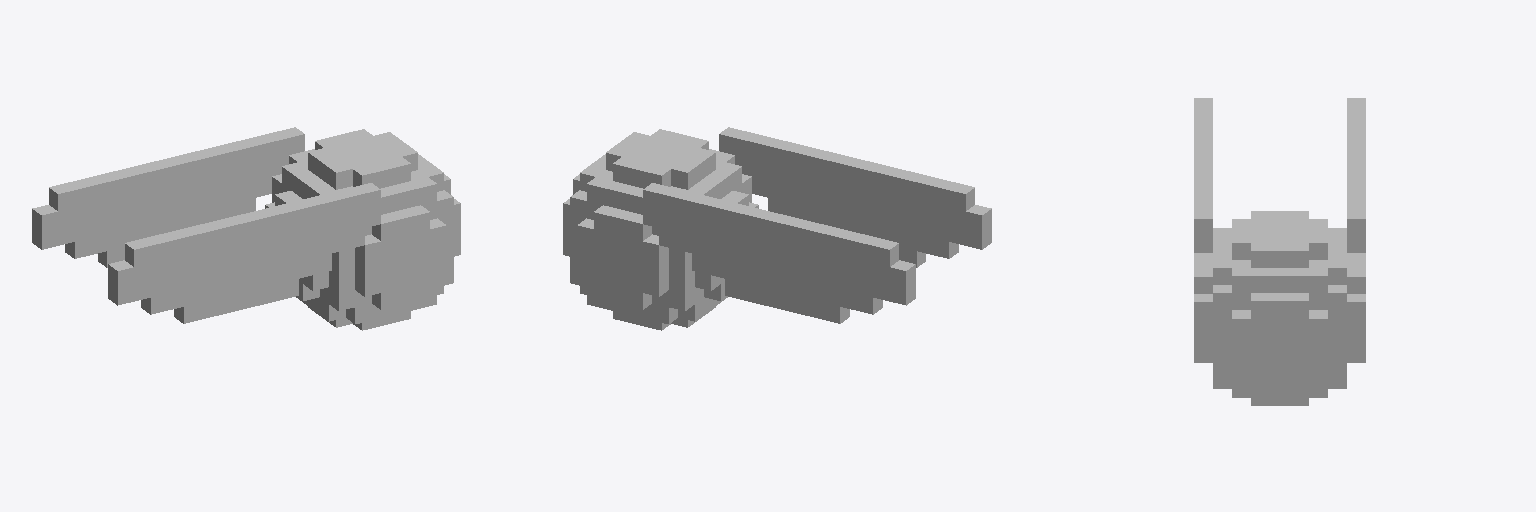
The model's file is Package 01 Necro Dungeon-28.obj.
3 renders of one model, left to right at view 1: azimuth 30°, elevation 25°; view 2: azimuth 150°, elevation 25°; view 3: azimuth 270°, elevation 25°, orthographic.
Visible parts, largest first — view 1: object 1; view 2: object 1; view 3: object 1.
Part boxes in pixels (bbox=[...]): object 1: bbox=[32, 127, 460, 330]; object 1: bbox=[563, 127, 991, 330]; object 1: bbox=[1194, 98, 1365, 405].
Size of the model in its own units: 2.2 by 0.9 by 0.9.